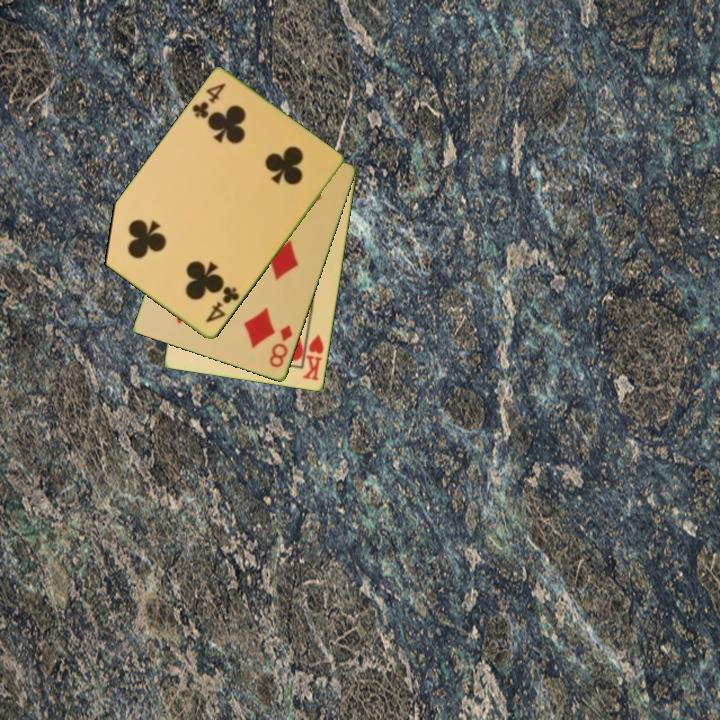4c: (202, 283, 242, 326), (189, 80, 229, 122)
8d: (266, 322, 295, 371)
Kh: (299, 327, 327, 384)
